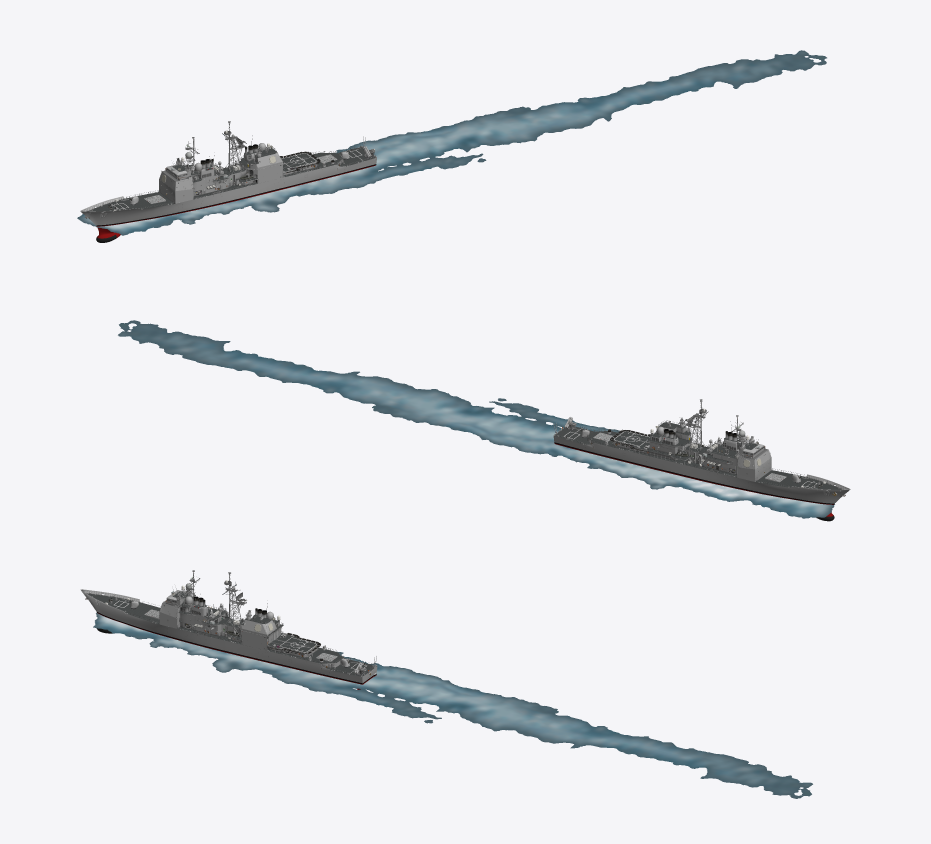
3 views of the same model, one above another, from view 1: azimuth 30°, elevation 25°; view 2: azimuth 150°, elevation 25°; view 3: azimuth 330°, elevation 25° (orthographic).
Visible parts, largest first — view 1: rect, main-model, hull, main-deck, railing; view 2: rect, main-model, hull, main-deck, railing; view 3: rect, main-model, hull, main-deck, railing.
Part boxes in pixels (<box>): rect: <box>77,50,826,235</box>; main-model: <box>91,121,376,210</box>; hull: <box>80,157,376,242</box>; main-deck: <box>88,147,375,212</box>; railing: <box>126,131,375,208</box>; rect: <box>118,320,834,518</box>; main-model: <box>553,399,839,488</box>; hull: <box>553,436,850,521</box>; main-deck: <box>555,422,841,490</box>; railing: <box>555,408,804,486</box>; rect: <box>93,612,812,798</box>; main-model: <box>92,570,377,676</box>; hull: <box>80,589,377,684</box>; main-deck: <box>87,591,376,676</box>; railing: <box>130,578,375,676</box>.
Size of the model in its own units: 514 by 52.41 by 62.36.
19 materials, 17 textured.
